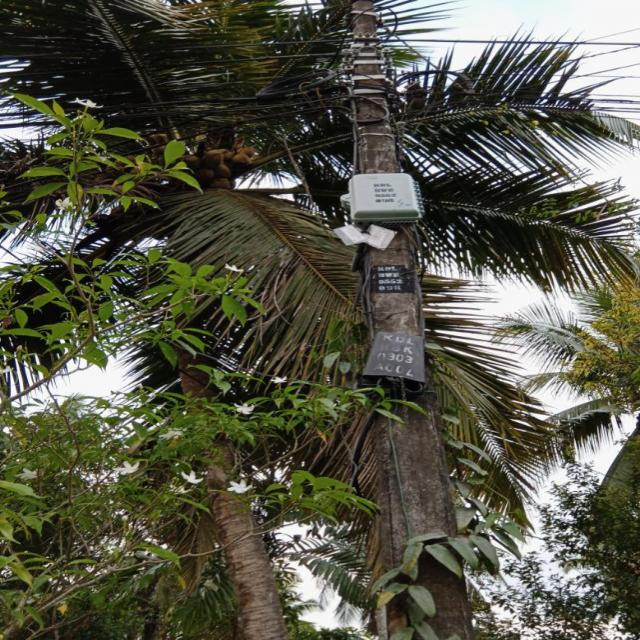light_pole: (326, 5, 478, 640)
